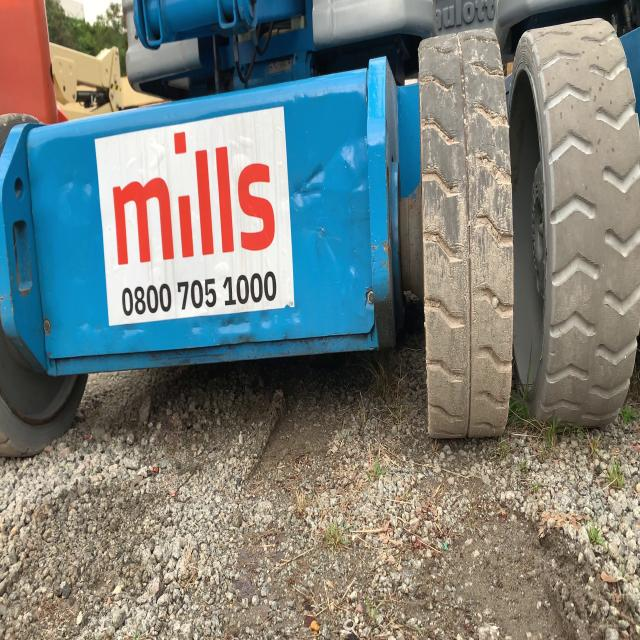Adesivos: (89, 103, 299, 331)
